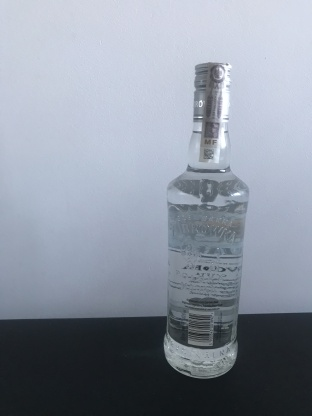nakretka: (190, 56, 235, 124)
